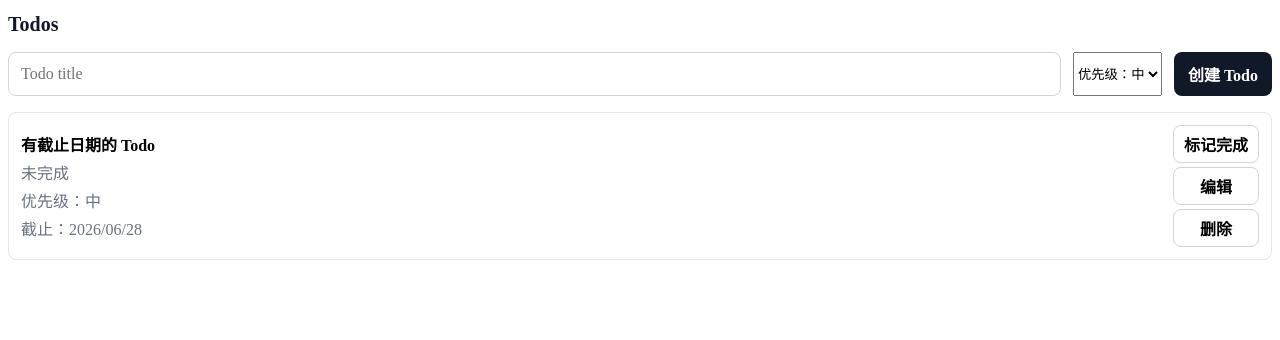
Scenario: TodoPanel › 点击编辑时会把 dueDate 和 priority 填入表单
The width and height of the screenshot is (1280, 340).
Click the button "编辑" at {"x": 1216, "y": 186}, box [1173, 167, 1259, 205]
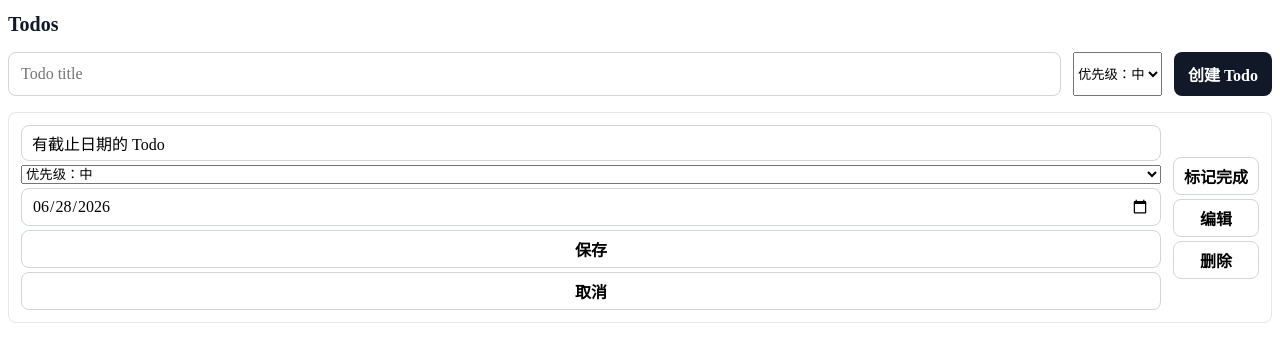
Expected: the field named "editingTodoTitle" holds "有截止日期的 Todo", [21, 125, 1161, 161]
Expected: the date field named "editingTodoDueDate" holds "2026-06-28", [21, 188, 1161, 226]
Expected: the 2nd dropdown named "editingTodoPriority" shows "优先级：中", [21, 165, 1161, 184]
